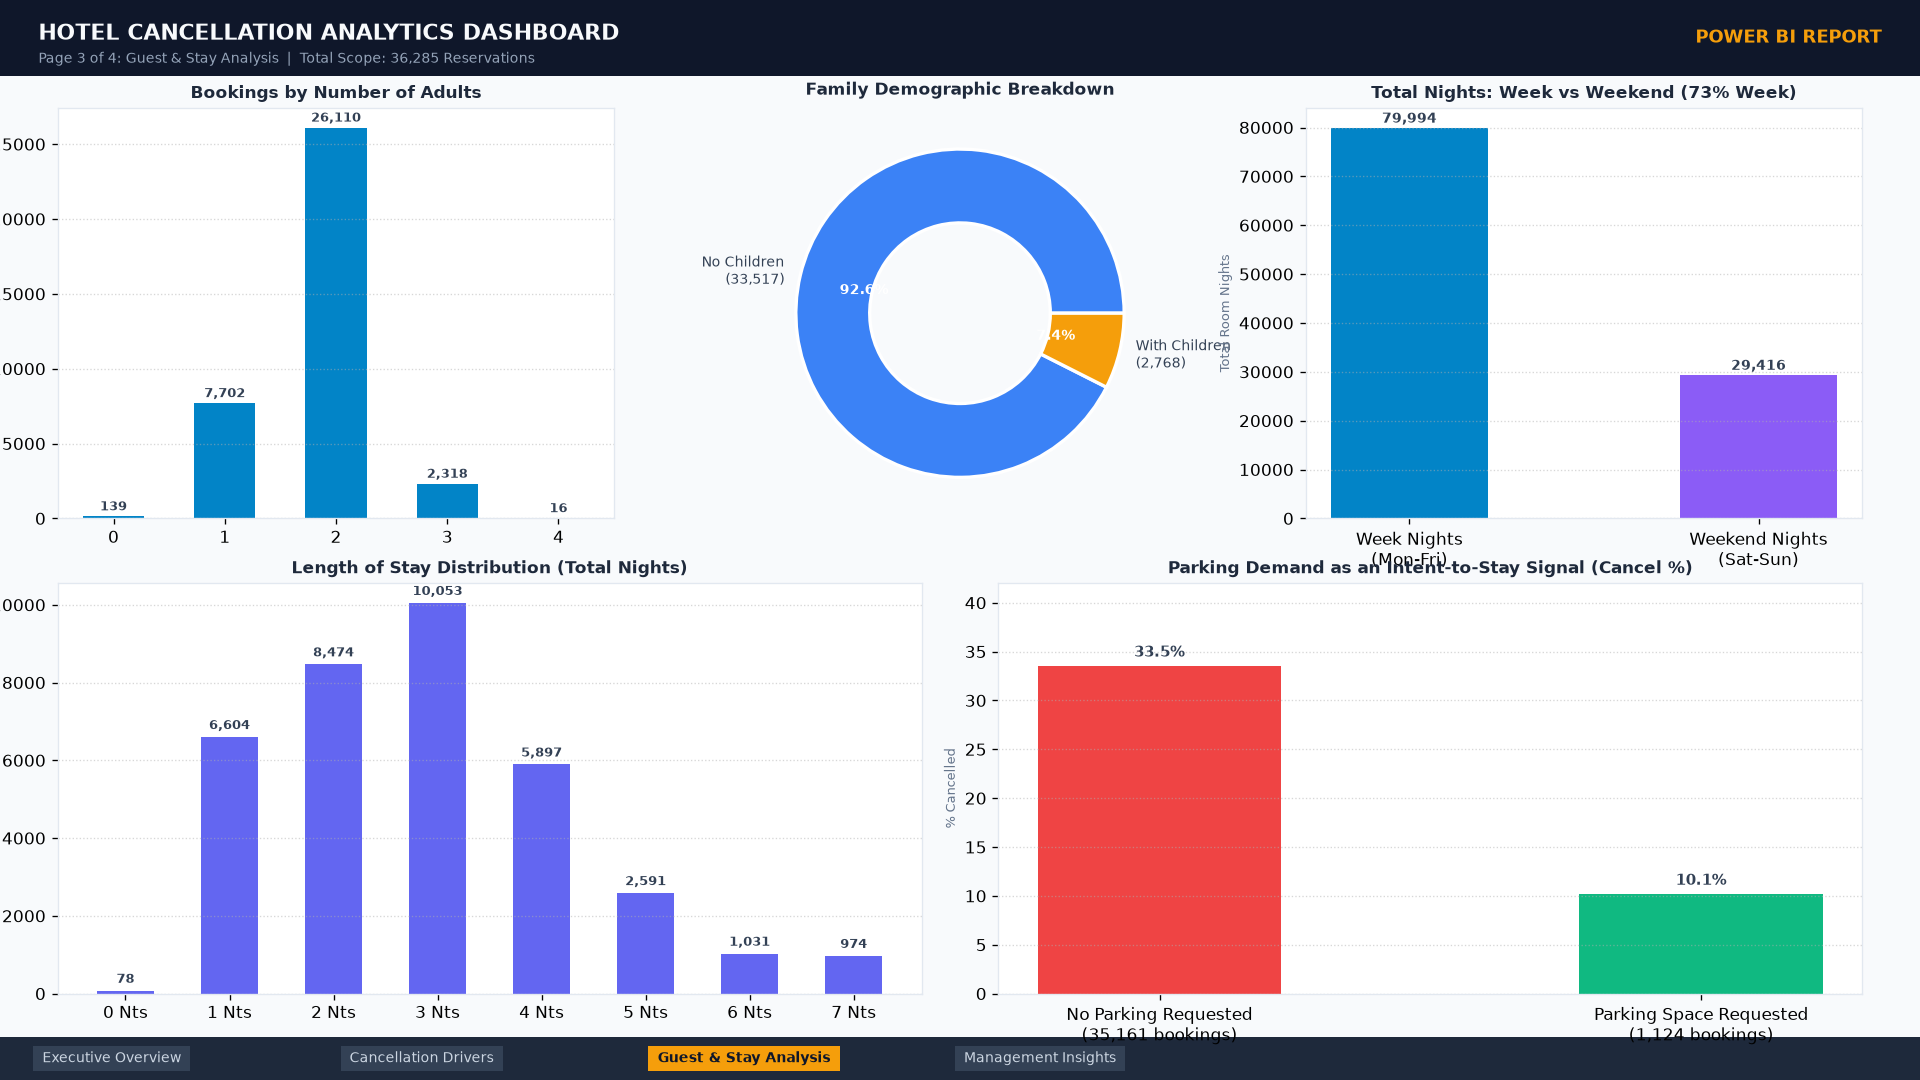

The page's visual inventory and layout, read from the dashboard file:
{"tool":"powerbi","page":{"name":"Guest & Stay Analysis","canvas":[1280,720],"ordinal":2},"visuals":[{"type":"columnChart","fields":{"Y":["_Measures.Total Bookings"],"Category":["booking.number of adults"]},"box":[0,58.2,288.1,230],"z":0},{"type":"donutChart","fields":{"Y":["_Measures.Total Bookings"],"Category":["booking.Children Status"]},"box":[288.1,58.2,422,230],"z":1000},{"type":"columnChart","fields":{"Y":["_Measures.Total Bookings"],"Category":["booking.Total Nights"]},"box":[539.3,288.1,541.2,198.6],"z":2000},{"type":"clusteredColumnChart","fields":{"Y":["_Measures.Total Bookings","booking.Week Nights","booking.Weekend Nights"]},"box":[0,288.1,539.3,198.6],"z":3000},{"type":"barChart","fields":{"Y":["_Measures.Total Bookings"],"Category":["booking.room type"]},"box":[0,486.7,640,232.7],"z":4000},{"type":"donutChart","fields":{"Y":["_Measures.Total Bookings"],"Category":["booking.car parking space"]},"box":[710.2,58.2,370.3,230],"z":5000},{"type":"columnChart","fields":{"Y":["_Measures.Total Bookings"],"Category":["booking.special requests"]},"box":[640,486.7,640,233.7],"z":6000},{"type":"slicer","fields":{"Values":["booking.Market Segment Type"]},"box":[1073.1,10.2,195.8,174.5],"z":7000},{"type":"slicer","fields":{"Values":["booking.Lead Time Group"]},"box":[1080.5,184.7,188.4,206.9],"z":8000},{"type":"slicer","fields":{"Values":["booking.Guest Type"]},"box":[1080.5,391.6,188.4,95.1],"z":9000},{"type":"textbox","box":[10.2,0,488.5,52.6],"z":10000}]}

Visuals, with their boxes in screenshot pixels (x1, y1, x2, y2), scaled from the page's 1280x720 canvas onto the 1920x1080 screenshot:
columnChart - _Measures.Total Bookings x booking.number of adults: detection(0, 87, 432, 432)
donutChart - _Measures.Total Bookings x booking.Children Status: detection(432, 87, 1065, 432)
columnChart - _Measures.Total Bookings x booking.Total Nights: detection(809, 432, 1621, 730)
clusteredColumnChart - _Measures.Total Bookings x booking.Week Nights: detection(0, 432, 809, 730)
barChart - _Measures.Total Bookings x booking.room type: detection(0, 730, 960, 1079)
donutChart - _Measures.Total Bookings x booking.car parking space: detection(1065, 87, 1621, 432)
columnChart - _Measures.Total Bookings x booking.special requests: detection(960, 730, 1919, 1079)
slicer - booking.Market Segment Type: detection(1610, 15, 1903, 277)
slicer - booking.Lead Time Group: detection(1621, 277, 1903, 587)
slicer - booking.Guest Type: detection(1621, 587, 1903, 730)
textbox: detection(15, 0, 748, 79)
